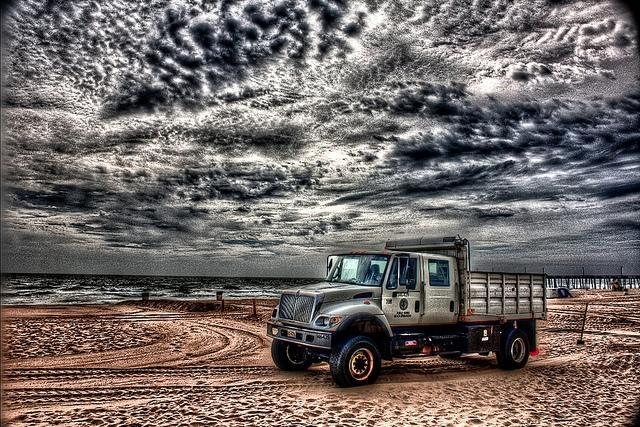truck: (264, 236, 552, 382)
